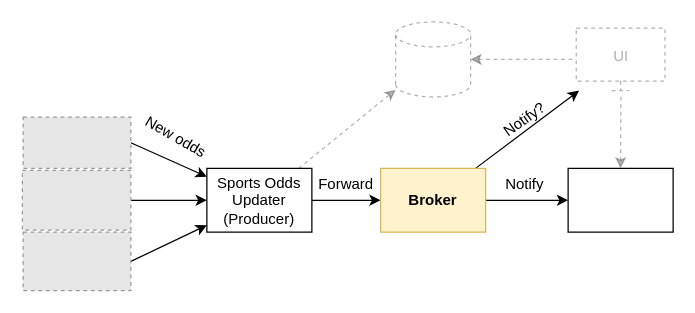
The diagram is 695 pixels wide and 313 high, and some of its shapes have lost their labels. Grey dashed boxes stand in for pictures. Here are the shapes that lost their labels. From the top down, the box of each, then its label:
(394, 21, 471, 97): Database
(567, 167, 673, 232): Betting (Consumer)
